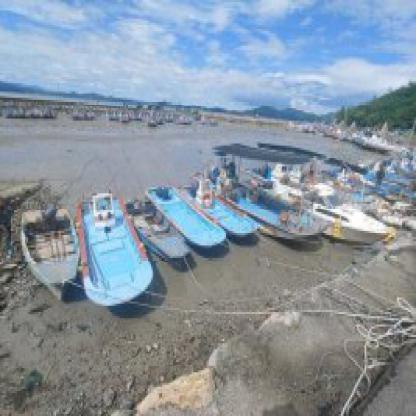fish-b: (237, 158, 400, 254), (69, 183, 162, 316), (140, 179, 234, 262)
